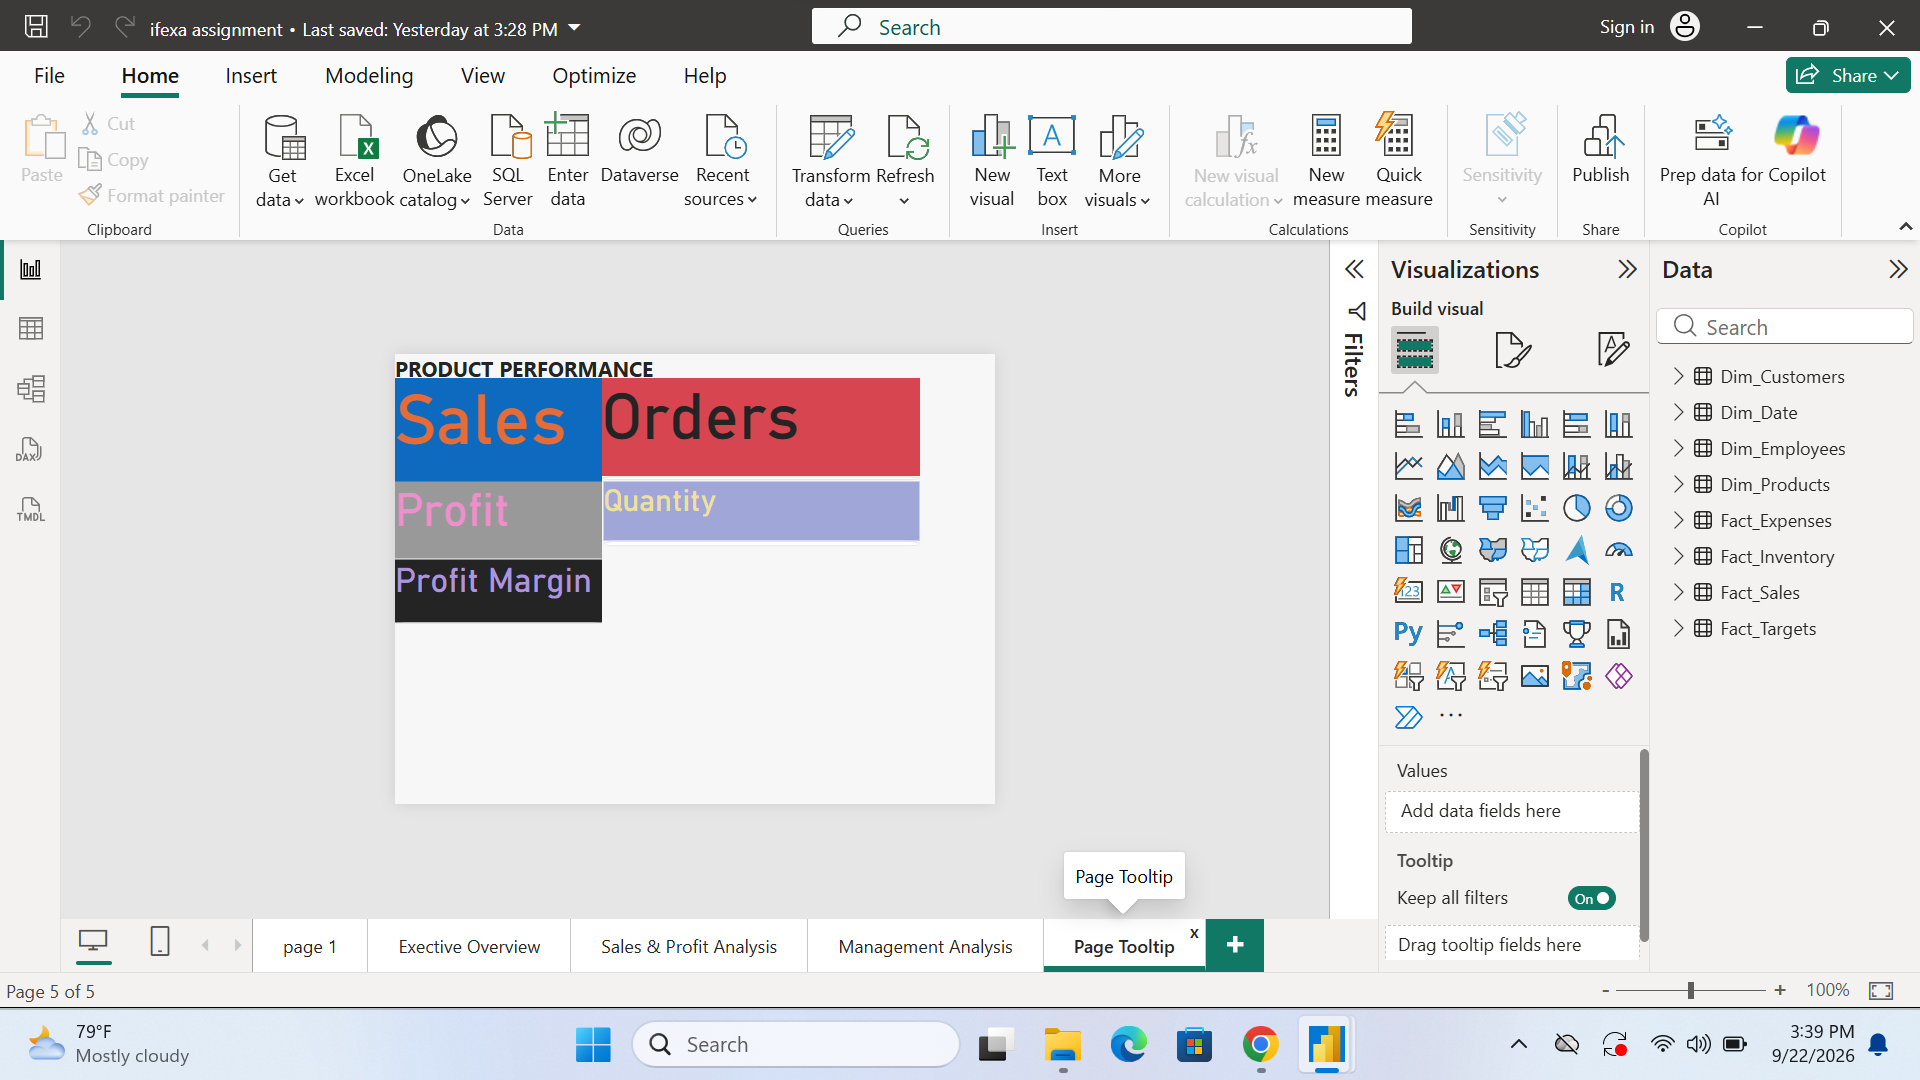

Layout of this report page (visuals, bound fields, positions):
{"tool":"powerbi","page":{"name":"Page Tooltip","canvas":[400,300],"ordinal":4},"visuals":[{"type":"textbox","box":[0,0,208,32],"z":0},{"type":"cardVisual","title":"Sales","fields":{"Data":["Dim_Customers.Total Sales"]},"box":[0,16,138,69],"z":1000},{"type":"cardVisual","title":"Profit","fields":{"Data":["Dim_Customers.Total Profit"]},"box":[0,85,138,52],"z":2000},{"type":"cardVisual","title":"Profit Margin","fields":{"Data":["Dim_Customers.Profit Margin"]},"box":[0,137,138,43],"z":3000},{"type":"cardVisual","title":"Quantity","fields":{"Data":["Dim_Customers.Total Quantity"]},"box":[139,85,211,44],"z":4000},{"type":"cardVisual","title":"Orders","fields":{"Data":["Dim_Customers.Order ID"]},"box":[138,16,212,69],"z":5000}]}

Visuals, with their boxes on the page's 400x300 design canvas (x1, y1, x2, y2). These are canvas units, not pixel positions in the 1920x1080 screenshot, which may show the page scaled, cropped or inside an application window:
textbox: Rect(0, 0, 208, 32)
"Sales" cardVisual: Rect(0, 16, 138, 85)
"Profit" cardVisual: Rect(0, 85, 138, 137)
"Profit Margin" cardVisual: Rect(0, 137, 138, 180)
"Quantity" cardVisual: Rect(139, 85, 350, 129)
"Orders" cardVisual: Rect(138, 16, 350, 85)
